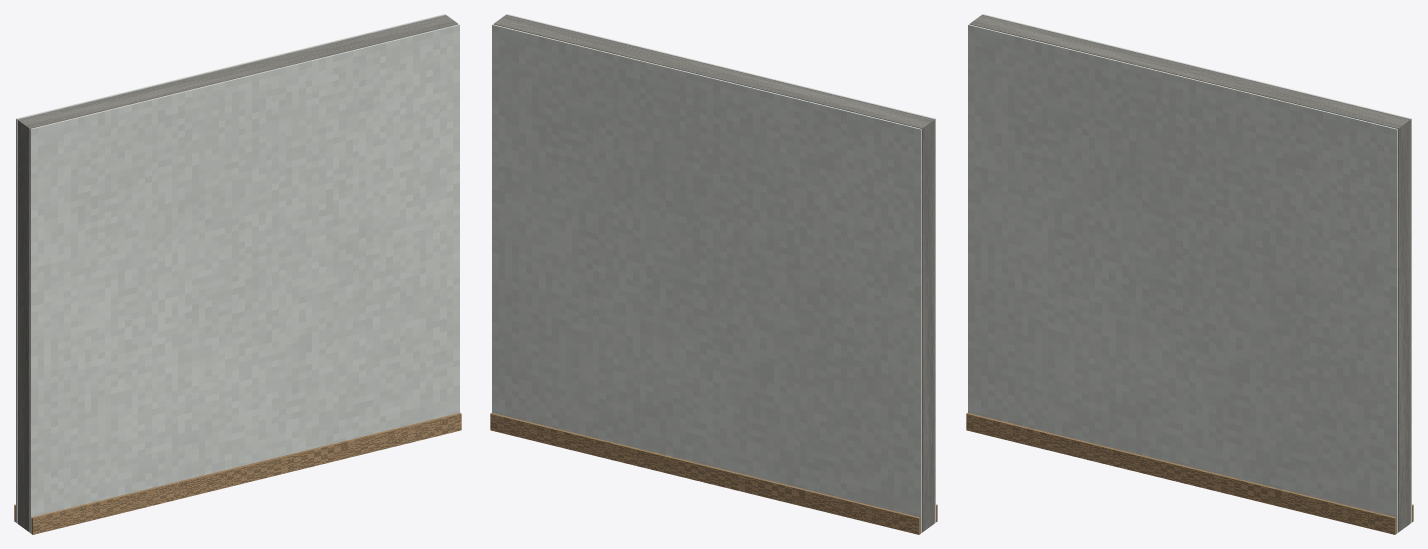
The model's file is partition_solid01.glb.
The picture shows the model from 3 angles, left to right: view 1: azimuth 30°, elevation 25°; view 2: azimuth 150°, elevation 25°; view 3: azimuth 330°, elevation 25°; orthographic projection.
Parts seen in each view (by area): view 1: finish, core, baseboard; view 2: finish, core, baseboard; view 3: finish, core, baseboard.
Boxes of the visible parts, bbox=[...] form: finish: bbox=[16, 14, 459, 533]; core: bbox=[17, 15, 457, 532]; baseboard: bbox=[14, 413, 461, 534]; finish: bbox=[492, 14, 935, 533]; core: bbox=[494, 15, 934, 532]; baseboard: bbox=[490, 413, 937, 534]; finish: bbox=[968, 14, 1411, 533]; core: bbox=[970, 15, 1410, 532]; baseboard: bbox=[966, 413, 1413, 534].
Size of the model in its own units: 3 by 2.7 by 0.226.
Materials: 3 (3 with a texture image).
